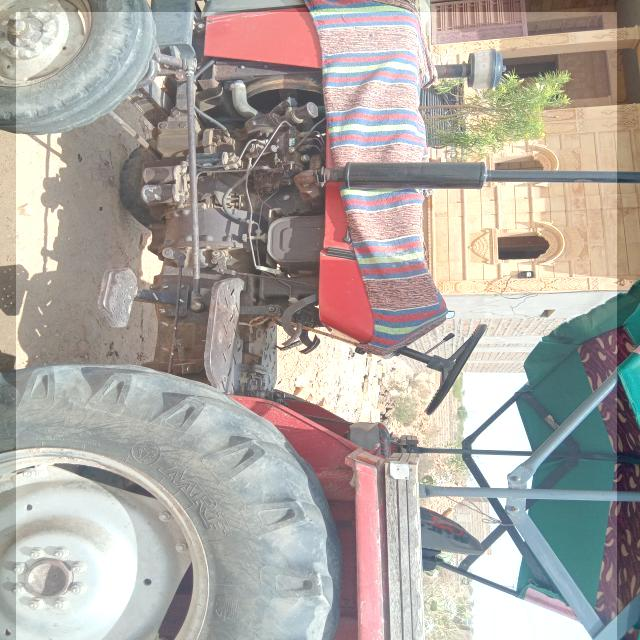Tractot: (16, 12, 617, 640)
